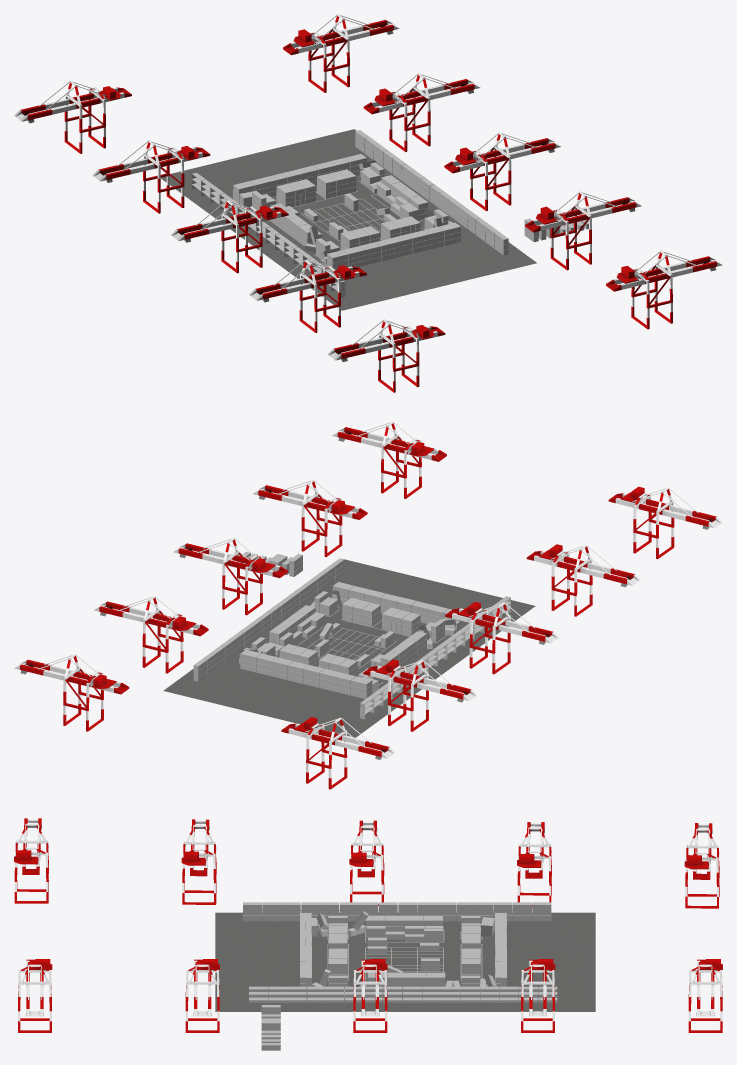
File: stage.fbx
3 renders of one model, top to bottom at view 1: azimuth 30°, elevation 25°; view 2: azimuth 150°, elevation 25°; view 3: azimuth 270°, elevation 25°, orthographic. The views are drawn at different scales.
Parts seen in each view (by area): view 1: background; view 2: background; view 3: background.
Boxes of the visible parts, box(x1,y1,x2,y2) form: background: box(14, 14, 722, 392); background: box(14, 421, 722, 789); background: box(14, 818, 722, 1050).
Size of the model in its own units: 6788 by 1081 by 10333.
